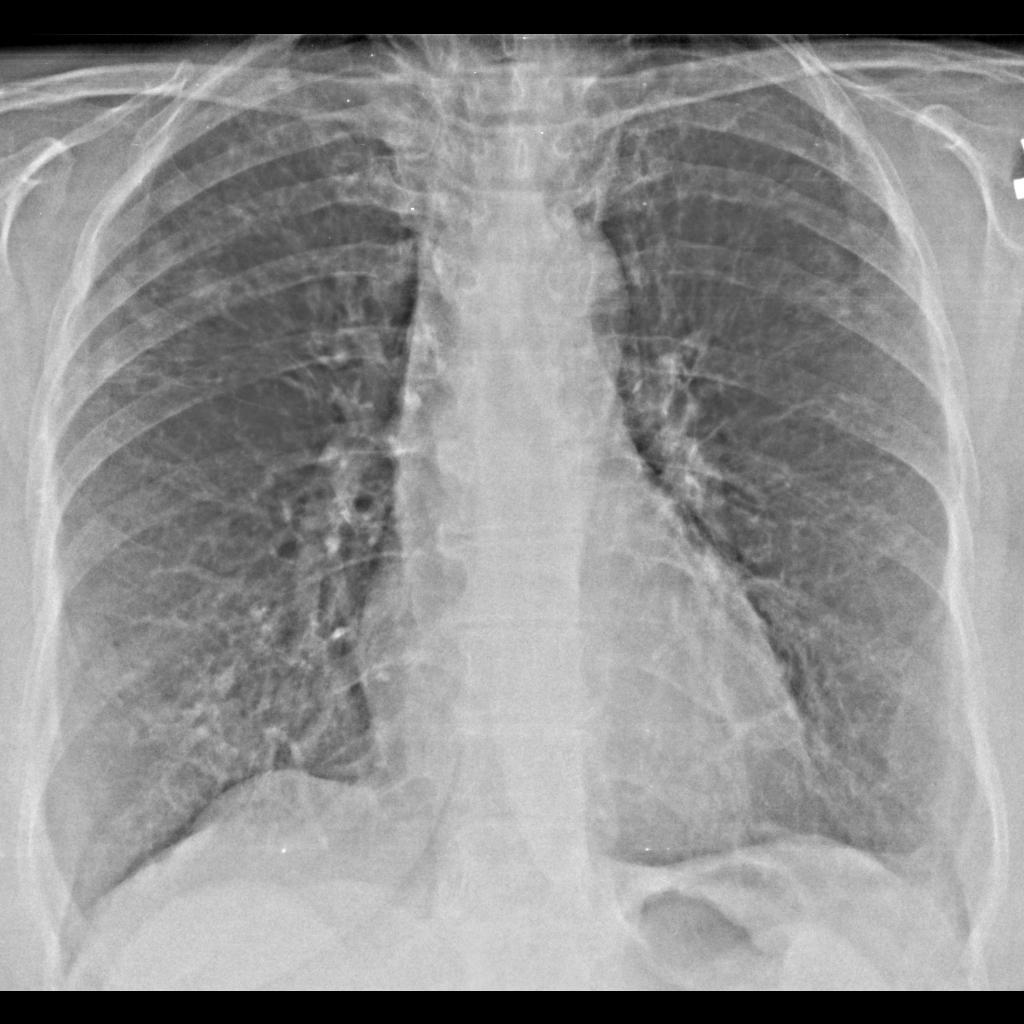Nodule: (184, 254, 236, 310)
